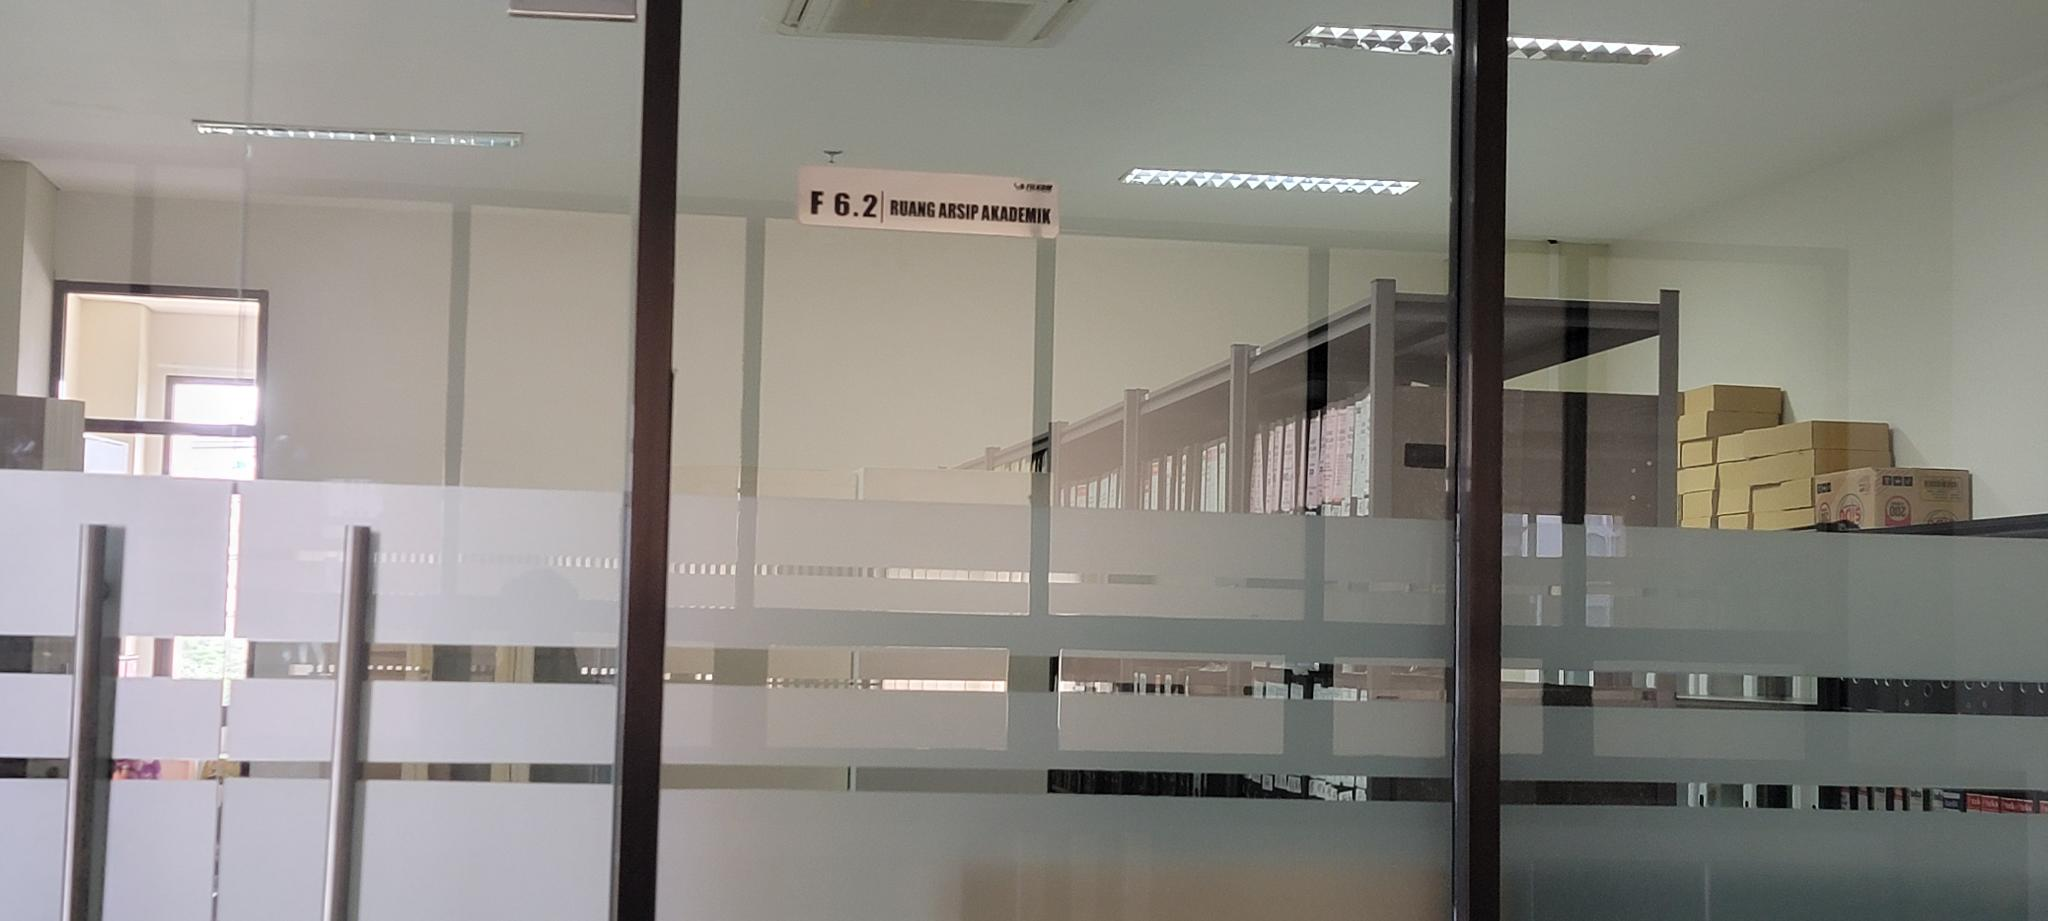plate: (798, 163, 1059, 240)
